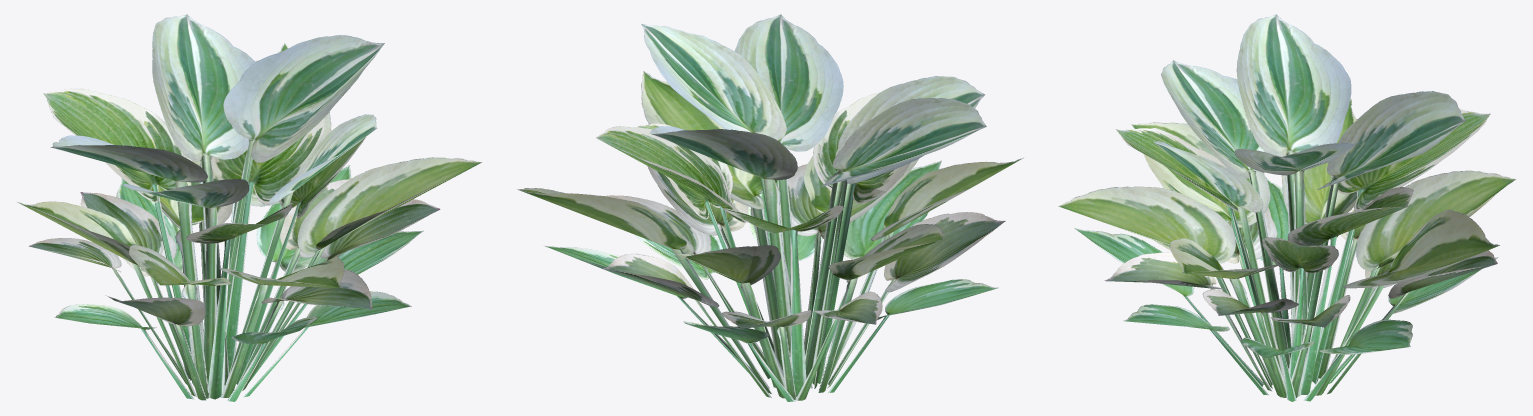
The model's file is plant_small_wg_00_wild.fbx.
The picture shows the model from 3 angles, left to right: view 1: azimuth 30°, elevation 25°; view 2: azimuth 150°, elevation 25°; view 3: azimuth 270°, elevation 25°; orthographic projection. The views are drawn at different scales.
Parts seen in each view (by area): view 1: plant_small_wg_00_wild; view 2: plant_small_wg_00_wild; view 3: plant_small_wg_00_wild.
Boxes of the visible parts, left/top/right/bottom form: plant_small_wg_00_wild: left=17, top=14, right=482, bottom=401; plant_small_wg_00_wild: left=517, top=14, right=1023, bottom=401; plant_small_wg_00_wild: left=1058, top=14, right=1516, bottom=401.
Size of the model in its own units: 76.36 by 57.99 by 79.12.
